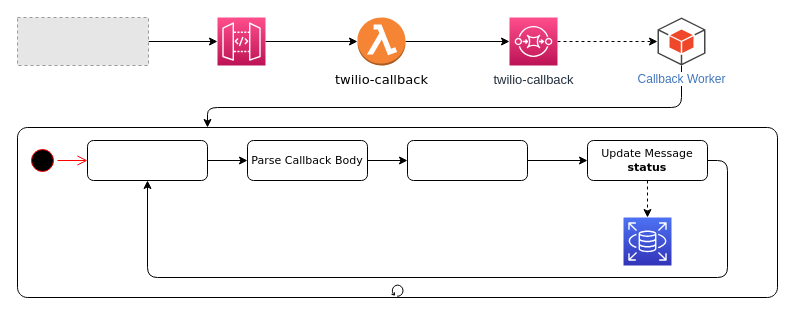
This 795x315 diagram has some shape labels left out. Grey dashed boxes stand in for pictures. The centre of each missing label's shape, as x and y in pixels:
"api_twilio_callback" belongs at pixel 241 41.
"Find message" belongs at pixel 467 160.
"Read Batch Messages" belongs at pixel 147 160.
